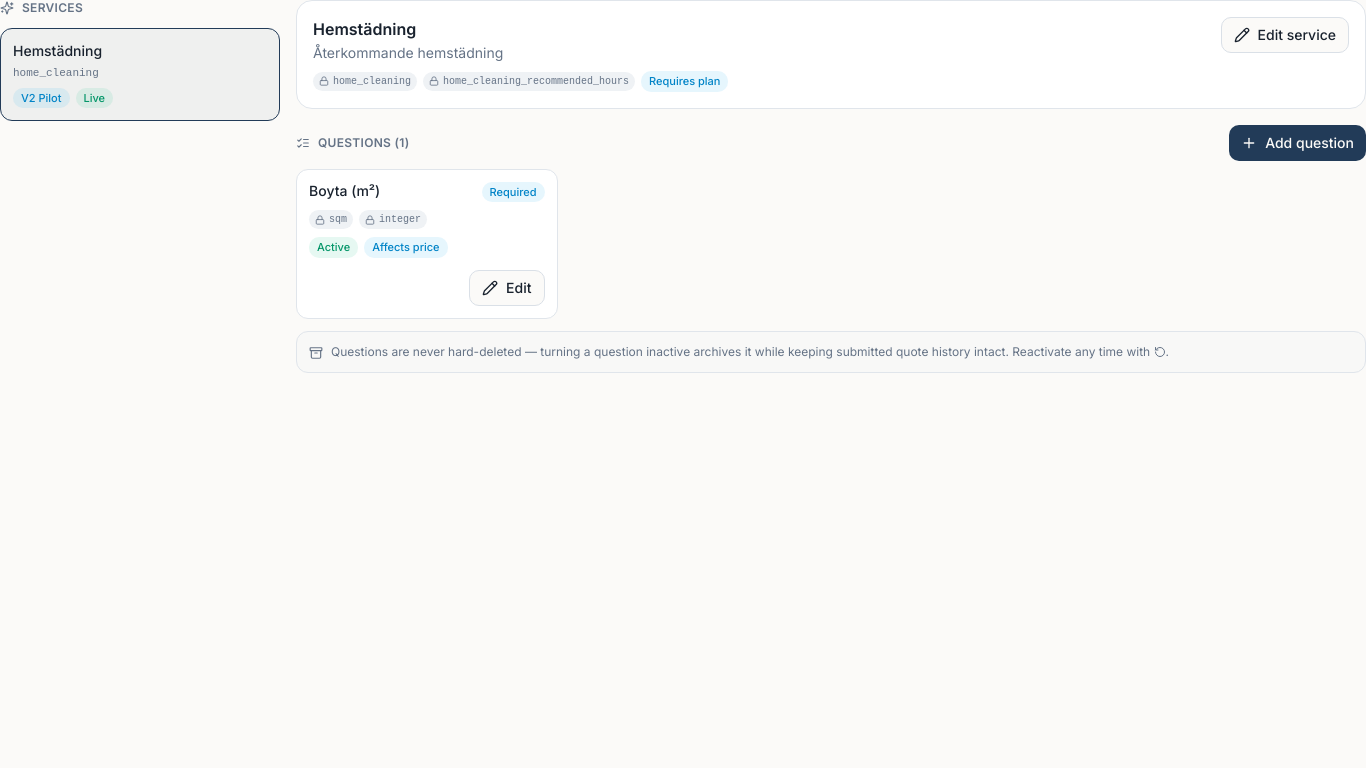
Test: ServicesFieldsEditor › blocks adding a question whose key duplicates an existing one
Click the button "Add question". click: click(1298, 142)
box: [1229, 124, 1365, 160]
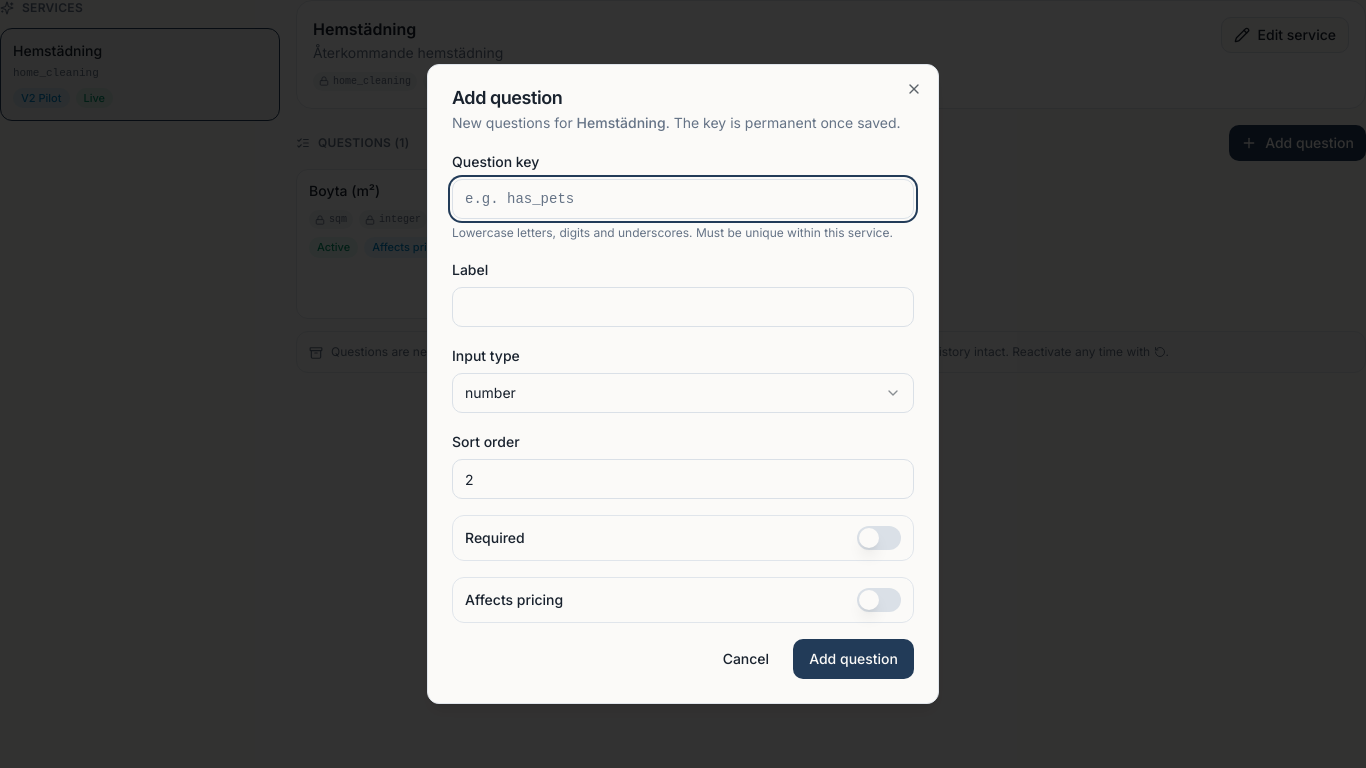
Type "sqm" into the field labelled "Question key". click: (683, 199)
box: [452, 179, 914, 219]
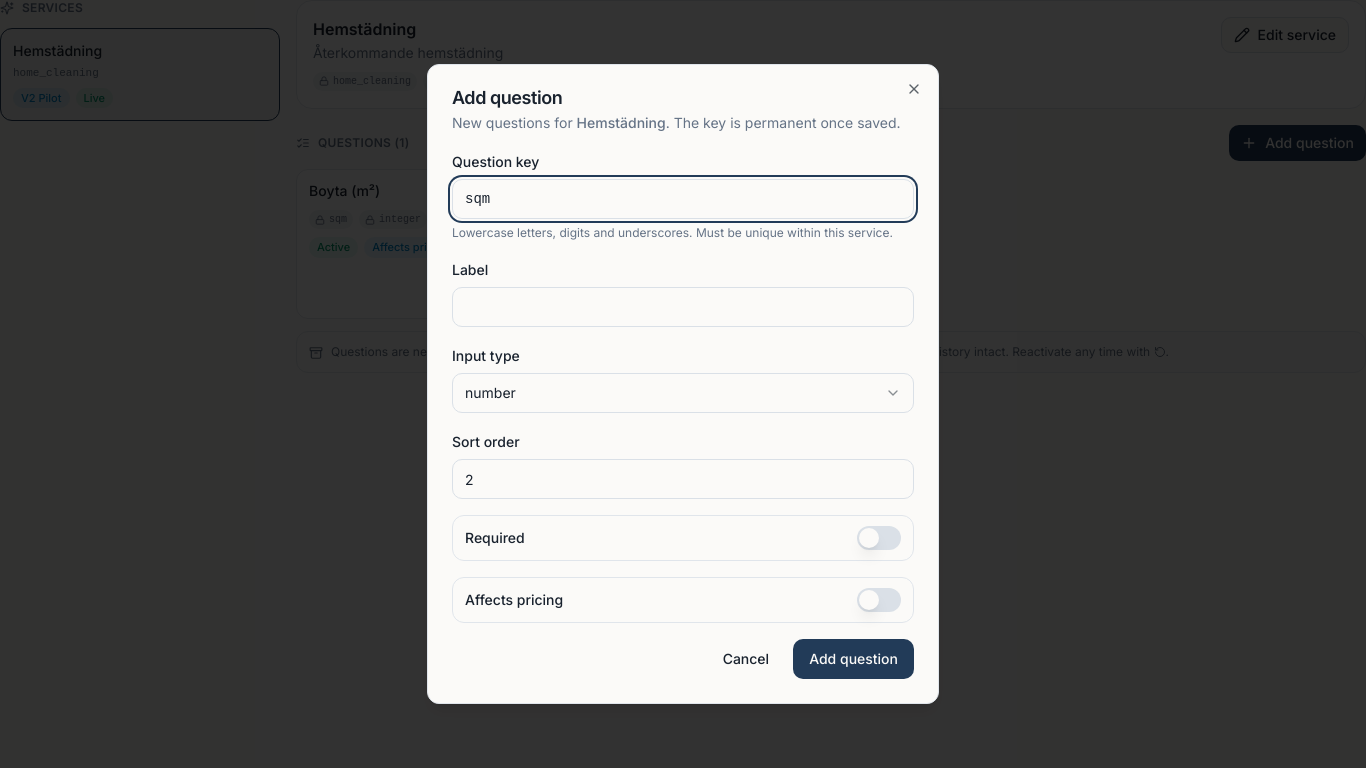
Type "Dup" into the field labelled "Label". click: (683, 307)
box: [452, 287, 914, 327]
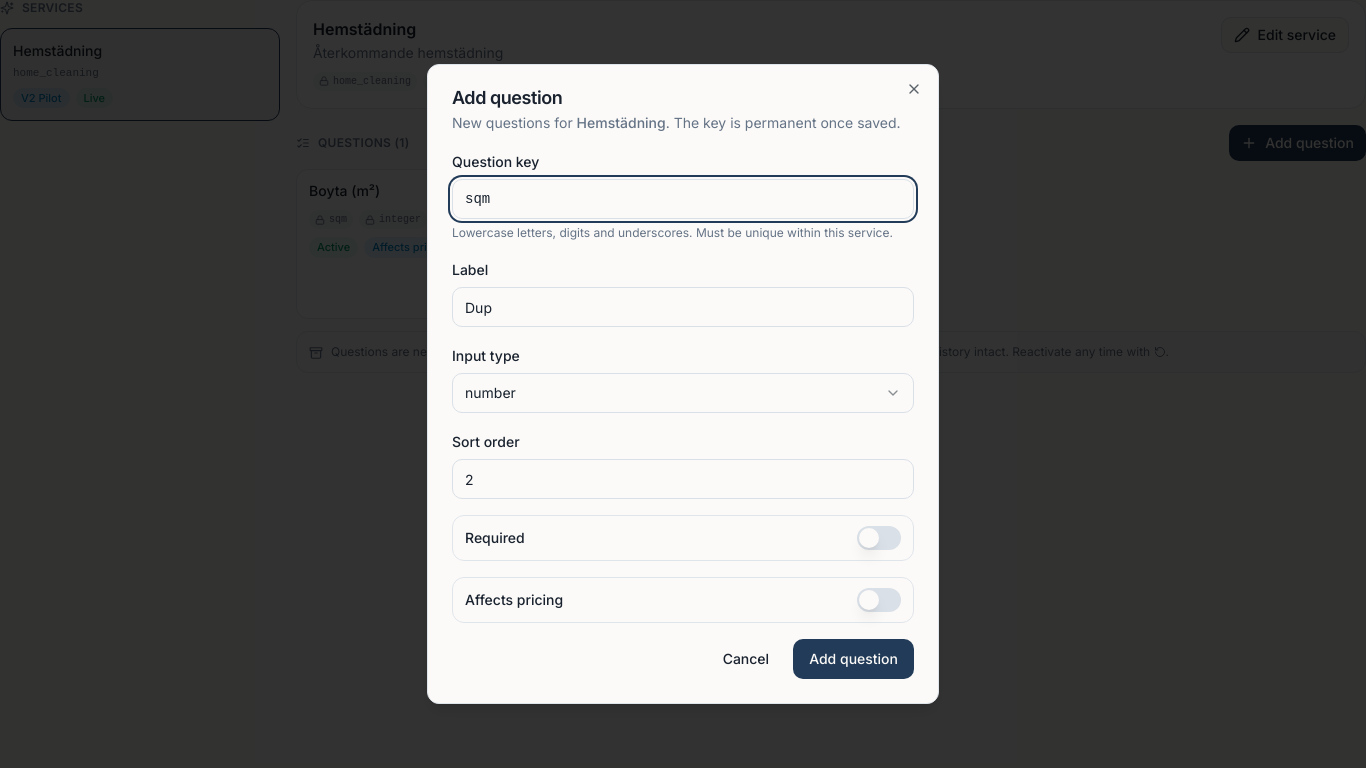
Click the button "Add question". click: click(854, 659)
box: [793, 639, 914, 679]
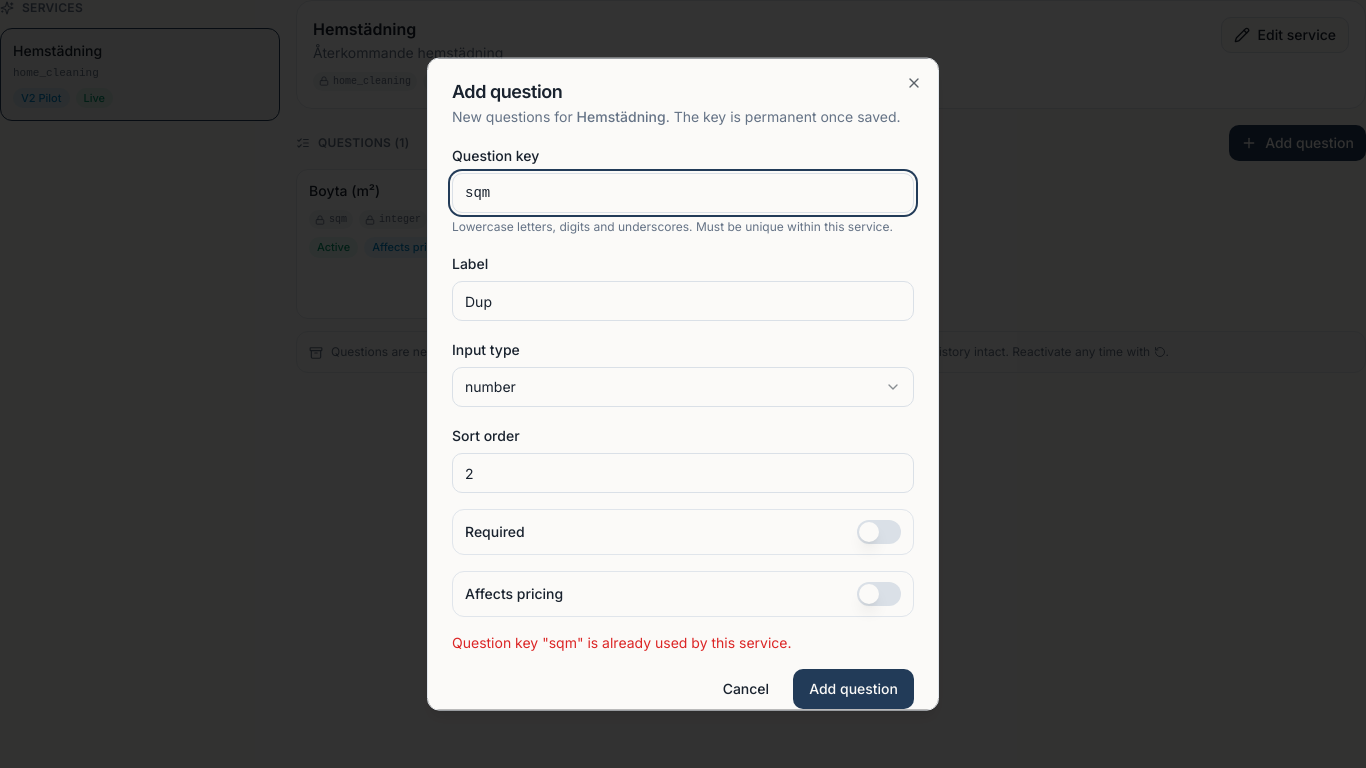
Check: the list item "Question key \"sqm\" is already used by this service." is shown, box [452, 634, 792, 651]
